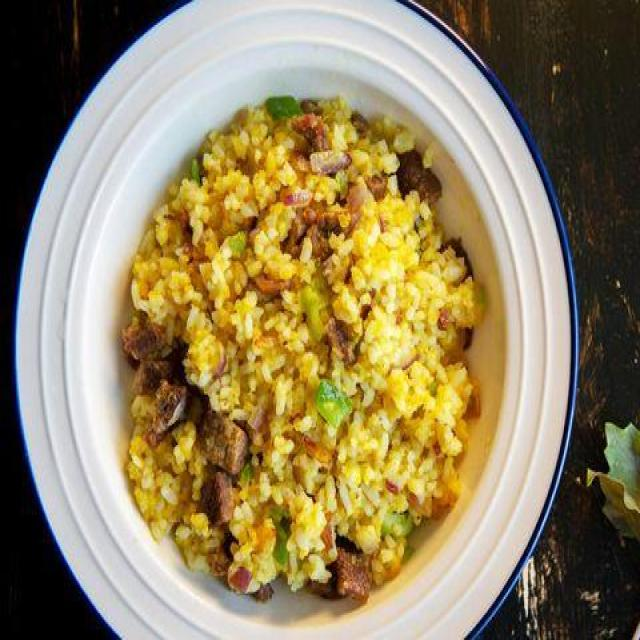Nasi Goreng: (120, 91, 485, 604)
